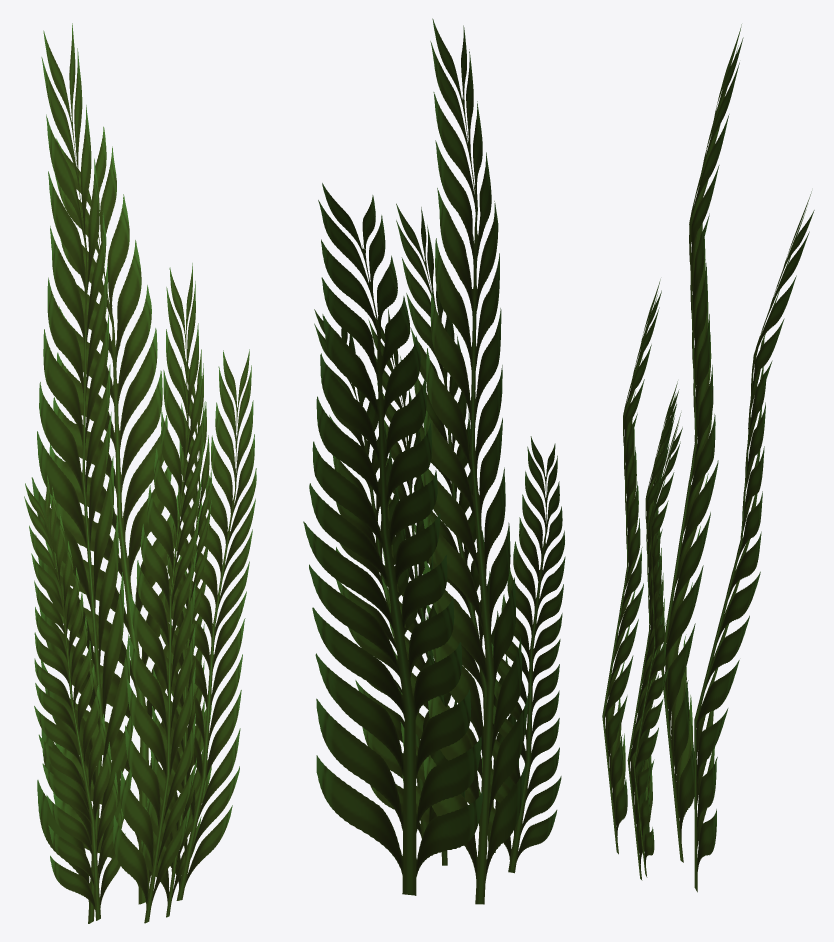
Rendered from SeaWeed_02b.FBX.
The picture shows the model from 3 angles, left to right: view 1: azimuth 30°, elevation 25°; view 2: azimuth 150°, elevation 25°; view 3: azimuth 270°, elevation 25°; orthographic projection. The views are drawn at different scales.
Parts seen in each view (by area): view 1: SeaWeed_02b; view 2: SeaWeed_02b; view 3: SeaWeed_02b.
Part boxes in pixels (x1,y1,x2,y2): SeaWeed_02b: (24,23,256,923); SeaWeed_02b: (303,18,565,904); SeaWeed_02b: (602,24,814,892).
Size of the model in its own units: 12.73 by 43.57 by 10.25.
